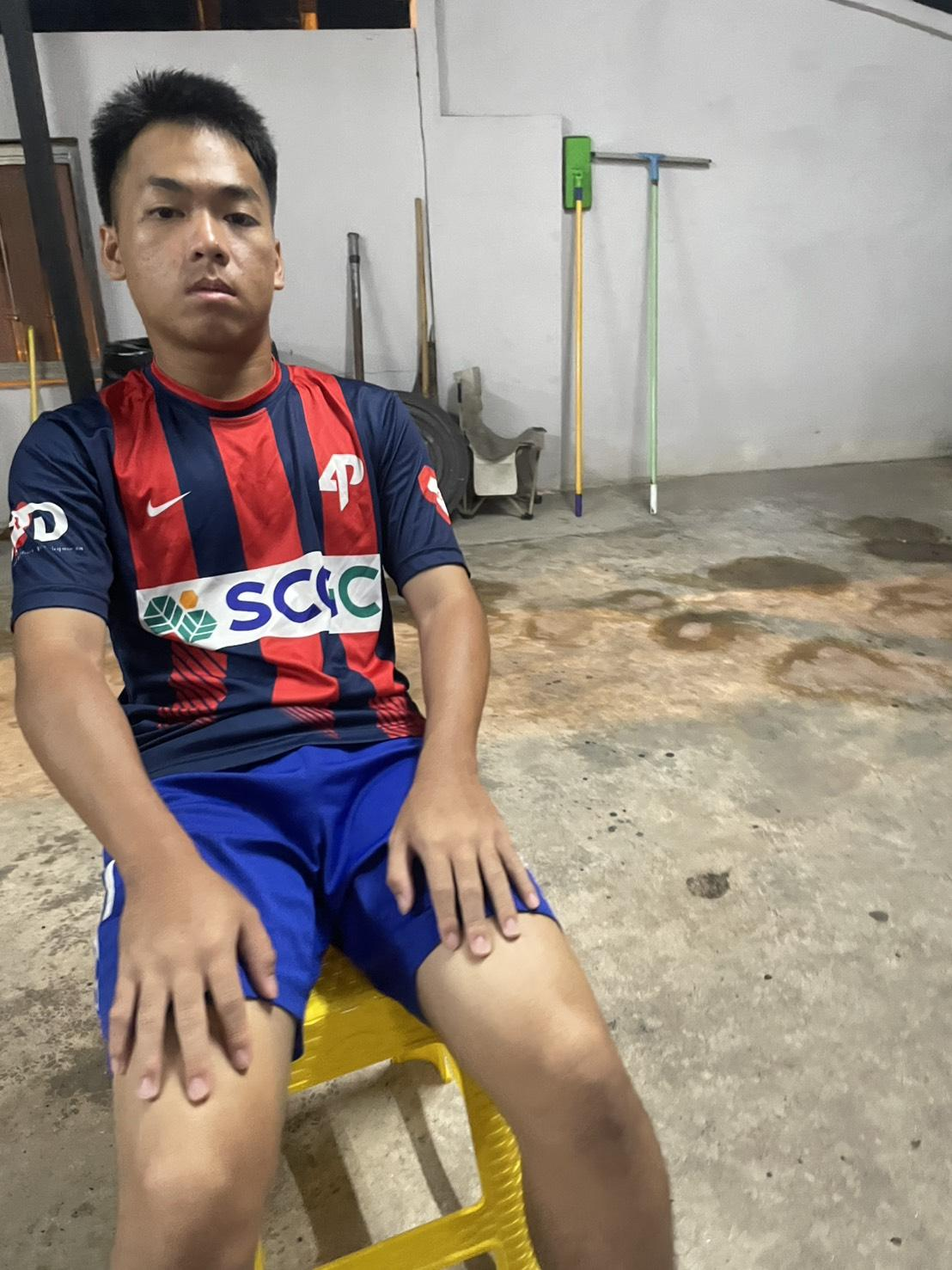BadPosture: (10, 71, 457, 778)
